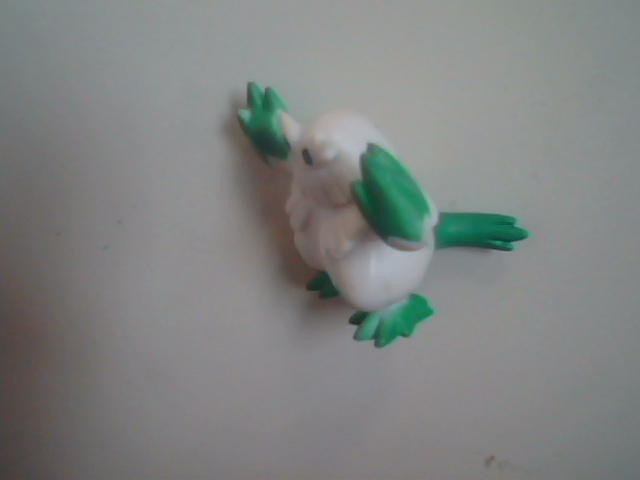abomasnow: (188, 43, 557, 381)
